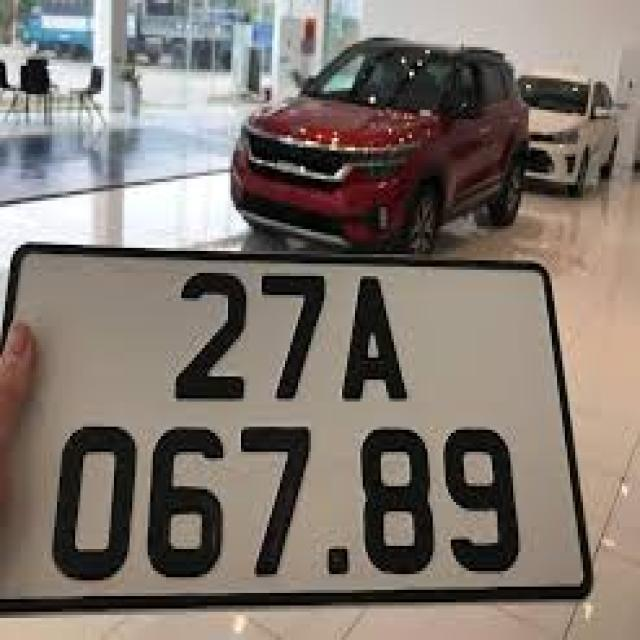a: (19, 248, 592, 599)
bien so: (20, 248, 590, 598)
